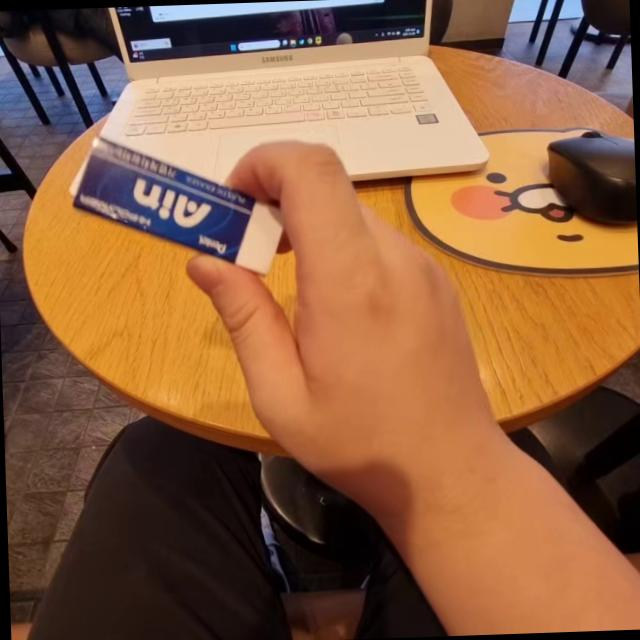eraser: (73, 122, 283, 267)
grab_eraser: (72, 111, 510, 560)
hand: (248, 122, 460, 461)
mouse: (529, 118, 638, 255)
